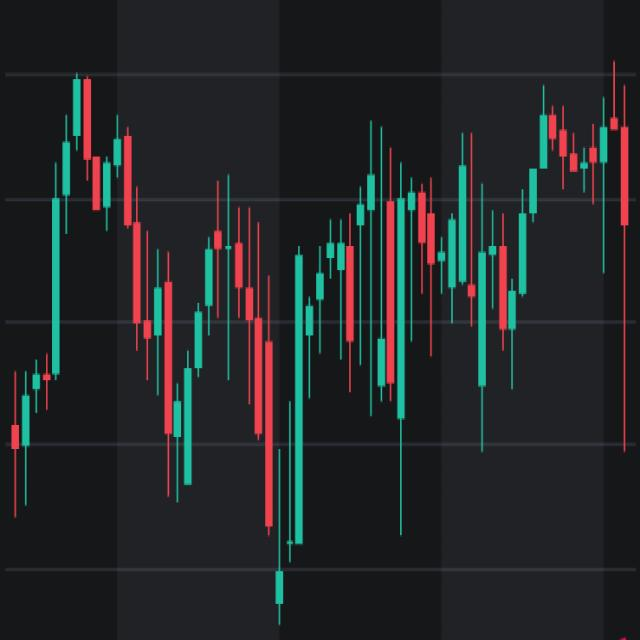Resistance-Emerging: (42, 65, 635, 568)
